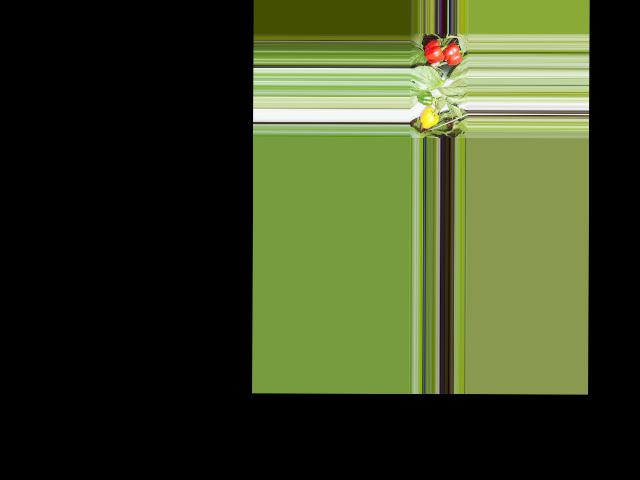bell_pepper: (418, 105, 439, 130)
